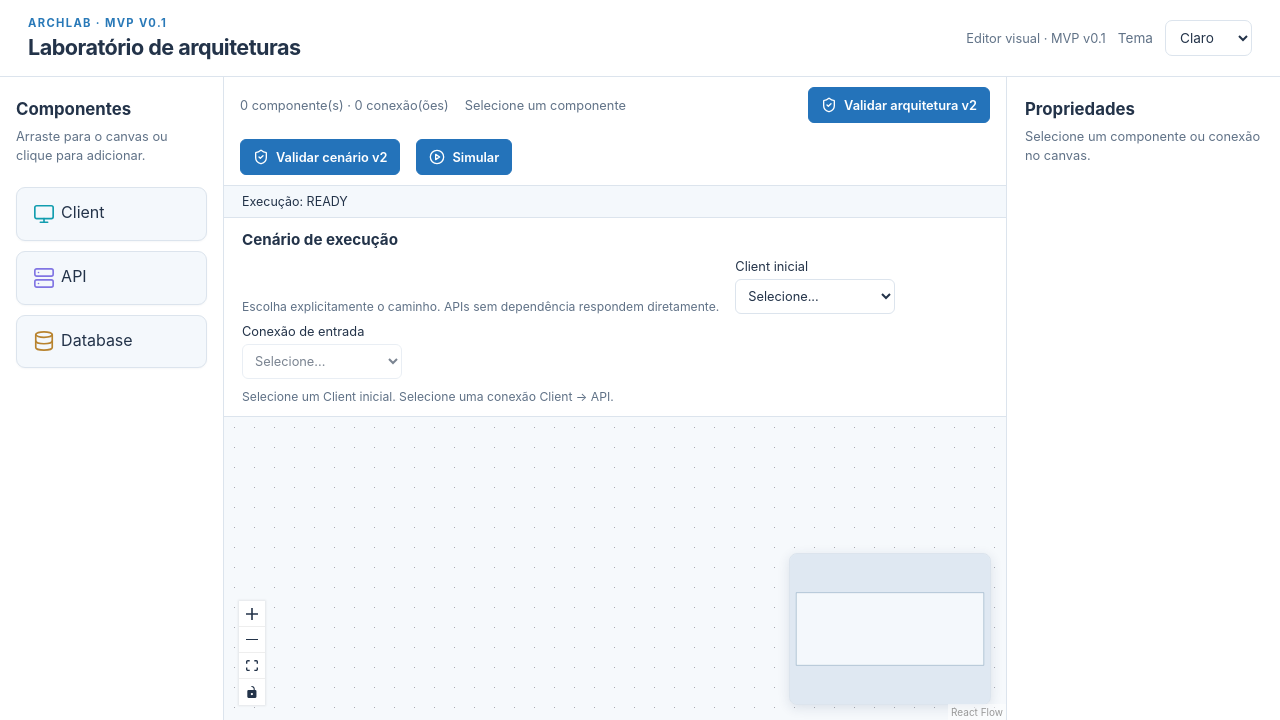
Editor visual › mostra Problem Details de falhas HTTP v2
Click the button "Validar arquitetura v2" at (899, 105), box top-left (808, 87), bottom-right (990, 123)
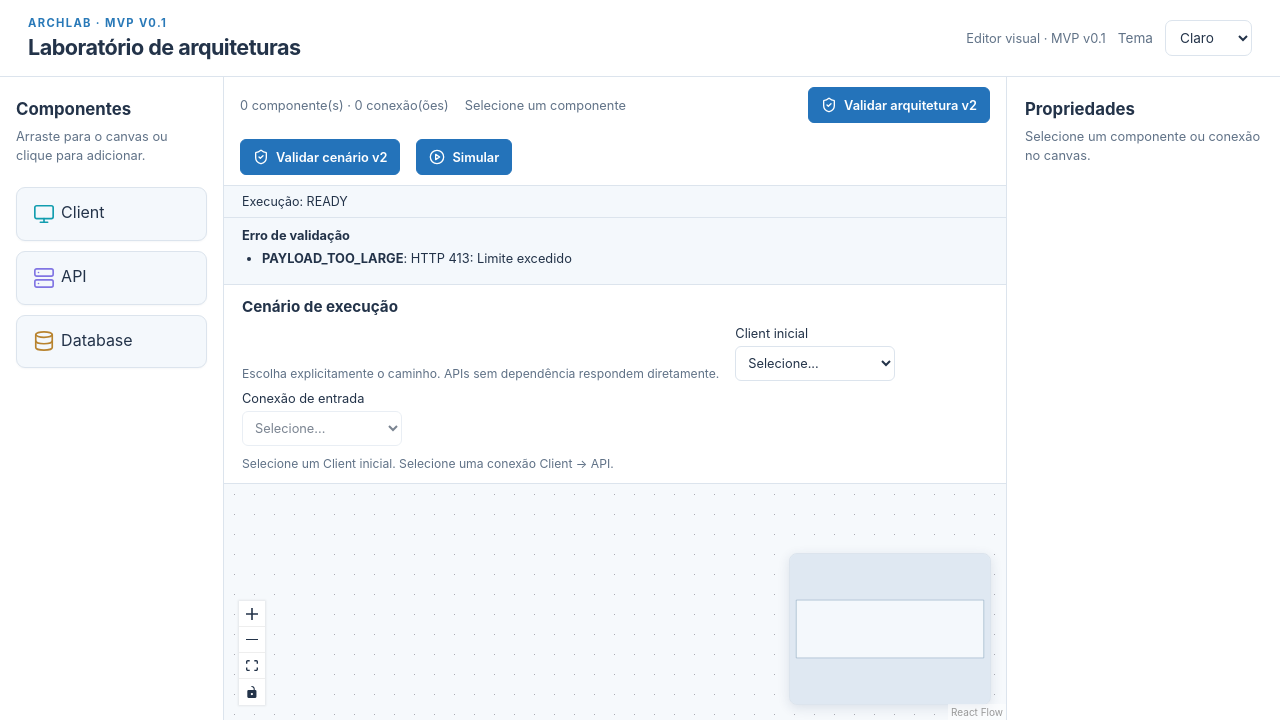
Result: the text "PAYLOAD_TOO_LARGE" is shown at top-left (262, 251), bottom-right (403, 266)
Result: the list item "PAYLOAD_TOO_LARGE: HTTP 413: Limite excedido" is shown at top-left (262, 251), bottom-right (572, 266)
